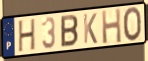3: (40, 16, 56, 51)
B: (60, 14, 79, 49)
H: (100, 7, 123, 46), (18, 18, 37, 55)
K: (82, 12, 98, 45)
O: (122, 6, 143, 43)
